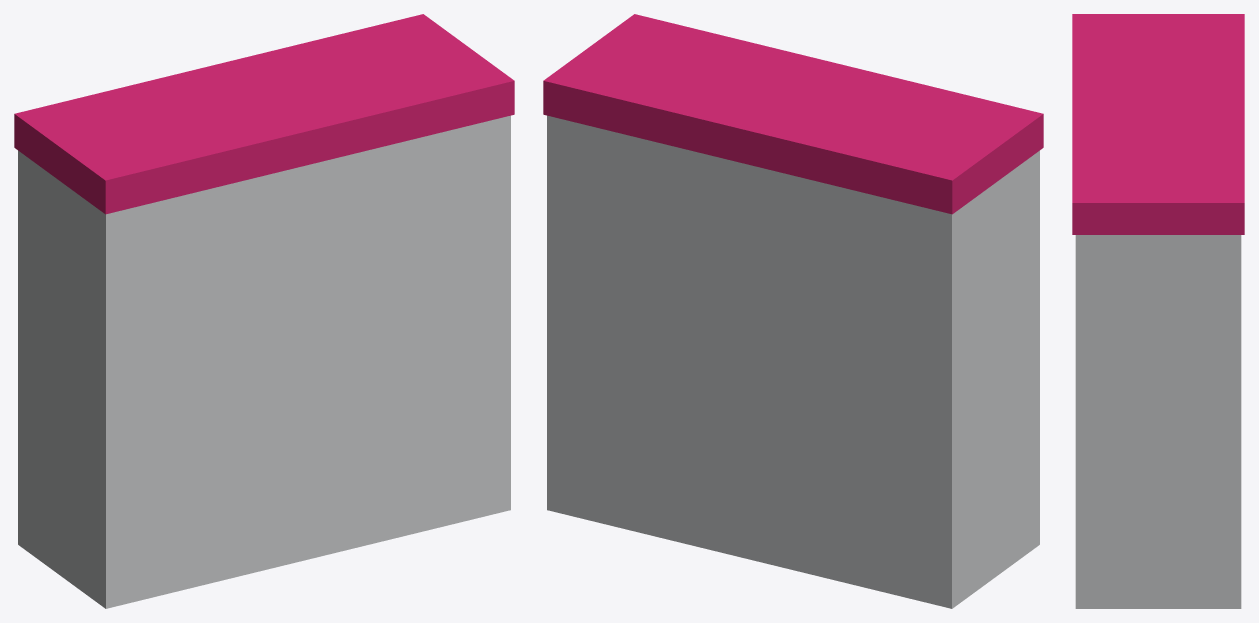
The model's file is cosmetics.glb.
3 views of the same model, side by side, from view 1: azimuth 30°, elevation 25°; view 2: azimuth 150°, elevation 25°; view 3: azimuth 270°, elevation 25° (orthographic). The views are drawn at different scales.
Parts seen in each view (by area): view 1: Boutique_Frame, LED_Header; view 2: Boutique_Frame, LED_Header; view 3: Boutique_Frame, LED_Header.
Boxes of the visible parts, box(x1,y1,x2,y2) form: Boutique_Frame: box(18, 115, 510, 608); LED_Header: box(14, 14, 514, 214); Boutique_Frame: box(547, 115, 1039, 608); LED_Header: box(543, 14, 1043, 214); Boutique_Frame: box(1075, 235, 1241, 608); LED_Header: box(1072, 14, 1244, 234).
Size of the model in its own units: 2.02 by 2.03 by 0.78.
